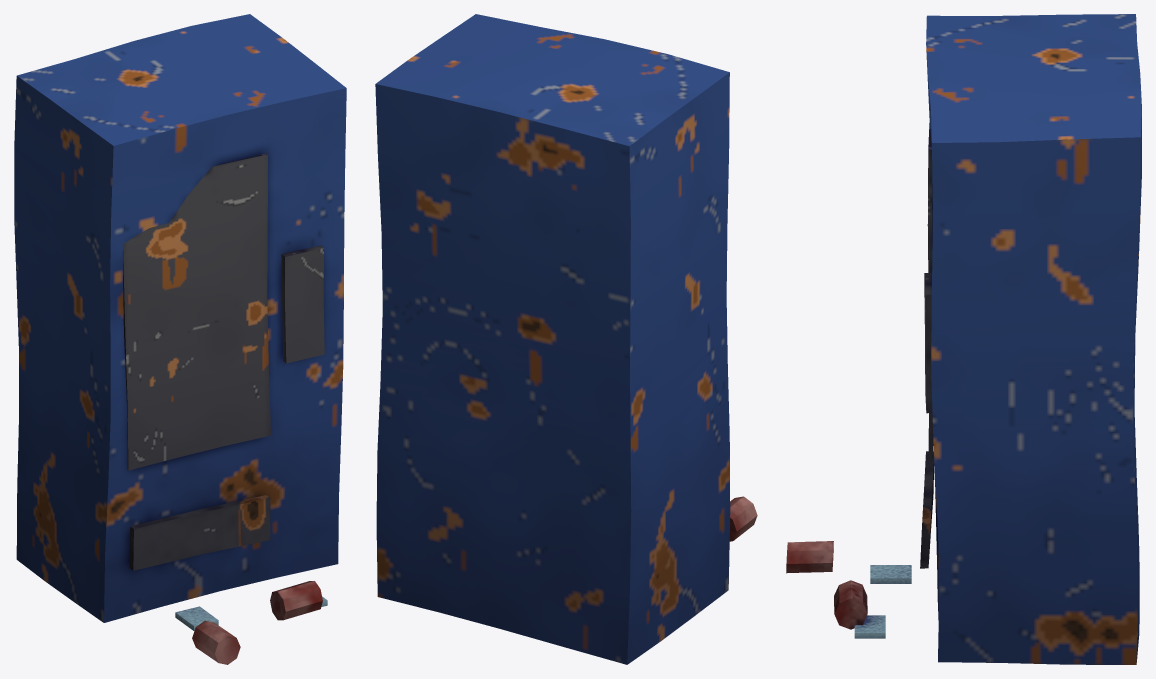
File: VendingMachine.glb
3 renders of one model, left to right at view 1: azimuth 30°, elevation 25°; view 2: azimuth 150°, elevation 25°; view 3: azimuth 270°, elevation 25°, orthographic. The views are drawn at different scales.
Parts seen in each view (by area): view 1: Case, Window, Cans, Glass; view 2: Case, Cans; view 3: Case, Window, Cans, Glass.
Part boxes in pixels (bbox=[...]): Case: bbox=[14, 14, 346, 622]; Window: bbox=[123, 153, 324, 570]; Cans: bbox=[192, 581, 322, 664]; Glass: bbox=[175, 596, 327, 630]; Case: bbox=[375, 14, 730, 664]; Cans: bbox=[729, 496, 757, 541]; Case: bbox=[926, 14, 1141, 664]; Window: bbox=[920, 122, 933, 568]; Cans: bbox=[786, 541, 867, 629]; Glass: bbox=[854, 565, 911, 638].
Size of the model in its own units: 1.47 by 2.86 by 1.72.
Materials: 4 (4 with a texture image).
